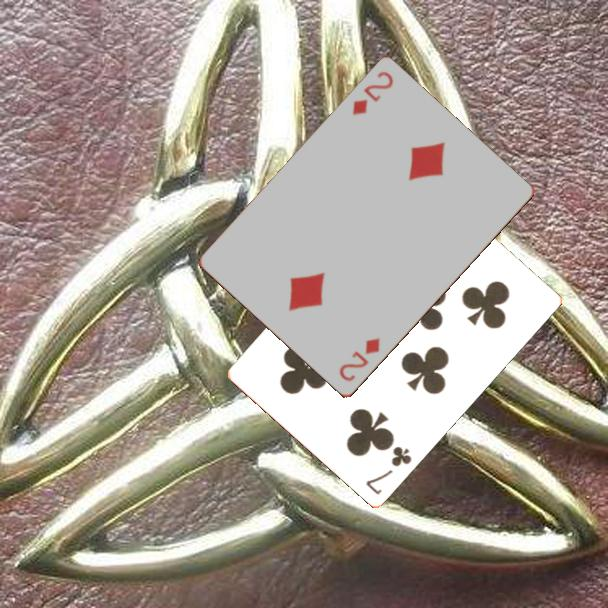c07: (362, 442, 415, 498)
d02: (336, 334, 383, 385), (349, 68, 396, 119)
